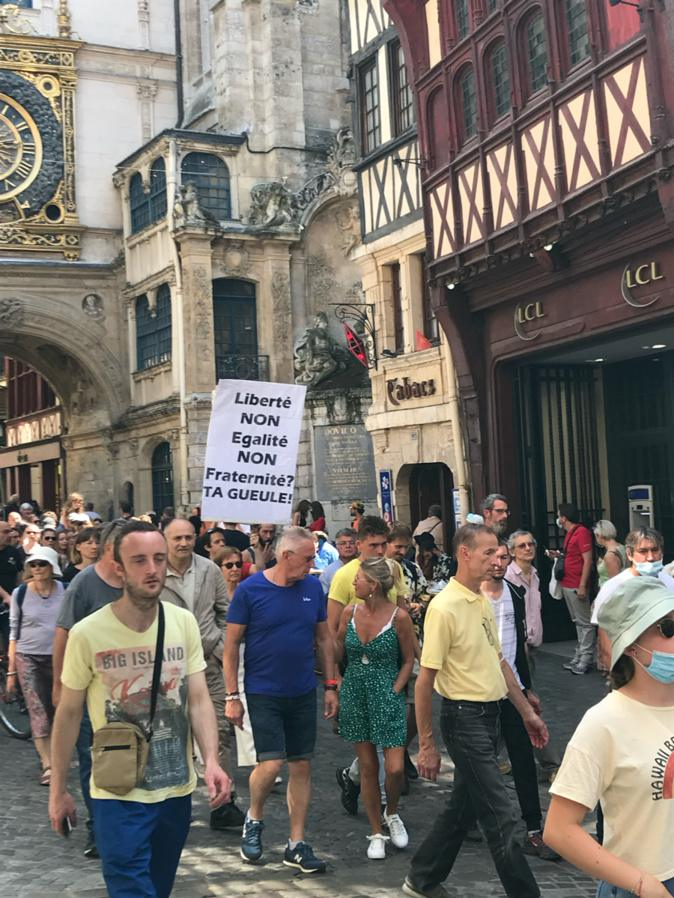with_incorrect_mask: (631, 541, 662, 577)
without_mask: (125, 544, 164, 593), (468, 543, 501, 586), (350, 567, 374, 604), (290, 543, 316, 577), (170, 527, 195, 559), (362, 531, 385, 561), (29, 556, 55, 582), (221, 555, 244, 582), (389, 536, 411, 564), (489, 498, 507, 532), (514, 537, 537, 563), (213, 535, 230, 562), (338, 533, 355, 558), (80, 537, 98, 559)
